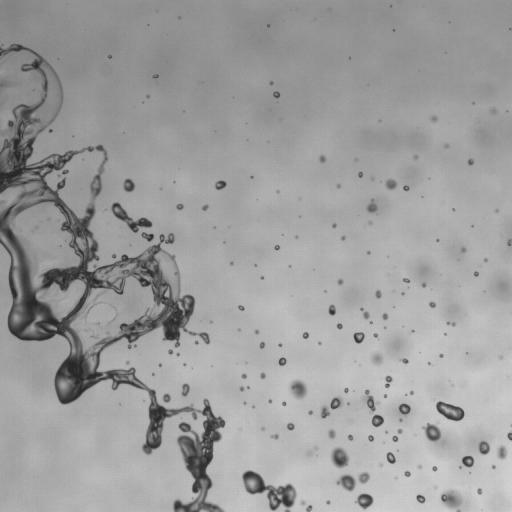droplet: (435, 401, 464, 421), (440, 489, 462, 511), (330, 447, 349, 468), (363, 389, 379, 413), (422, 422, 441, 442), (289, 379, 307, 399), (336, 474, 355, 491), (355, 493, 373, 509), (0, 78, 17, 92), (370, 352, 383, 365), (123, 178, 135, 191), (371, 414, 383, 427), (398, 403, 410, 415), (366, 199, 377, 212), (478, 441, 489, 454), (497, 445, 507, 459), (385, 178, 397, 189), (462, 456, 474, 467), (353, 332, 364, 343), (358, 472, 369, 483), (214, 180, 226, 189), (181, 383, 189, 396), (142, 232, 153, 241), (386, 452, 395, 463), (385, 376, 392, 388), (416, 494, 425, 503), (162, 393, 170, 402), (328, 305, 335, 315), (278, 357, 286, 365), (328, 429, 335, 438), (287, 423, 294, 430), (375, 290, 381, 298), (399, 358, 408, 363), (319, 155, 325, 162), (273, 91, 279, 97), (431, 116, 437, 122), (202, 204, 208, 210), (382, 313, 388, 319), (302, 332, 308, 338), (259, 342, 265, 348), (306, 505, 312, 511), (176, 204, 183, 209), (271, 434, 278, 439), (491, 108, 496, 114), (468, 159, 473, 165), (338, 279, 343, 285), (429, 302, 435, 307), (238, 305, 244, 310), (337, 323, 342, 329), (368, 435, 373, 441), (392, 436, 398, 441), (306, 451, 312, 456), (404, 471, 410, 476), (477, 488, 482, 494), (274, 245, 279, 250), (373, 333, 378, 338), (241, 373, 246, 378), (260, 373, 265, 378), (348, 435, 353, 440), (300, 500, 305, 505), (0, 100, 4, 106), (358, 171, 362, 177), (403, 186, 409, 190), (507, 239, 511, 245), (403, 278, 409, 282), (474, 271, 478, 276), (254, 329, 258, 334), (168, 349, 172, 354), (308, 410, 313, 414), (397, 429, 402, 433), (444, 144, 448, 148), (413, 155, 417, 159), (332, 223, 336, 227), (461, 248, 465, 252), (112, 254, 116, 258), (439, 353, 443, 357), (240, 386, 244, 390), (344, 388, 348, 392), (432, 466, 436, 470), (326, 500, 330, 504), (153, 74, 157, 77), (337, 184, 340, 188), (341, 236, 345, 239), (422, 283, 425, 287), (409, 391, 413, 394), (108, 55, 111, 58), (269, 81, 272, 84), (484, 258, 487, 261), (195, 341, 198, 344), (279, 343, 282, 346), (499, 356, 502, 359), (282, 402, 285, 405), (418, 465, 421, 468), (492, 465, 495, 468), (146, 95, 149, 97), (49, 129, 51, 132), (495, 209, 497, 212), (369, 221, 371, 224), (367, 251, 369, 254), (230, 262, 233, 264), (318, 342, 321, 344), (176, 353, 179, 355), (428, 362, 431, 364), (158, 364, 161, 366), (268, 400, 271, 402), (262, 427, 264, 430), (58, 174, 60, 176), (36, 226, 38, 228), (96, 323, 98, 325), (411, 330, 413, 332), (384, 395, 386, 397), (399, 419, 401, 421), (315, 447, 317, 449), (435, 486, 437, 488)
ligament: (0, 46, 225, 511), (242, 470, 296, 511), (110, 202, 152, 232), (320, 396, 343, 418), (361, 308, 369, 319), (447, 321, 455, 326), (507, 430, 511, 440), (109, 317, 115, 323)
